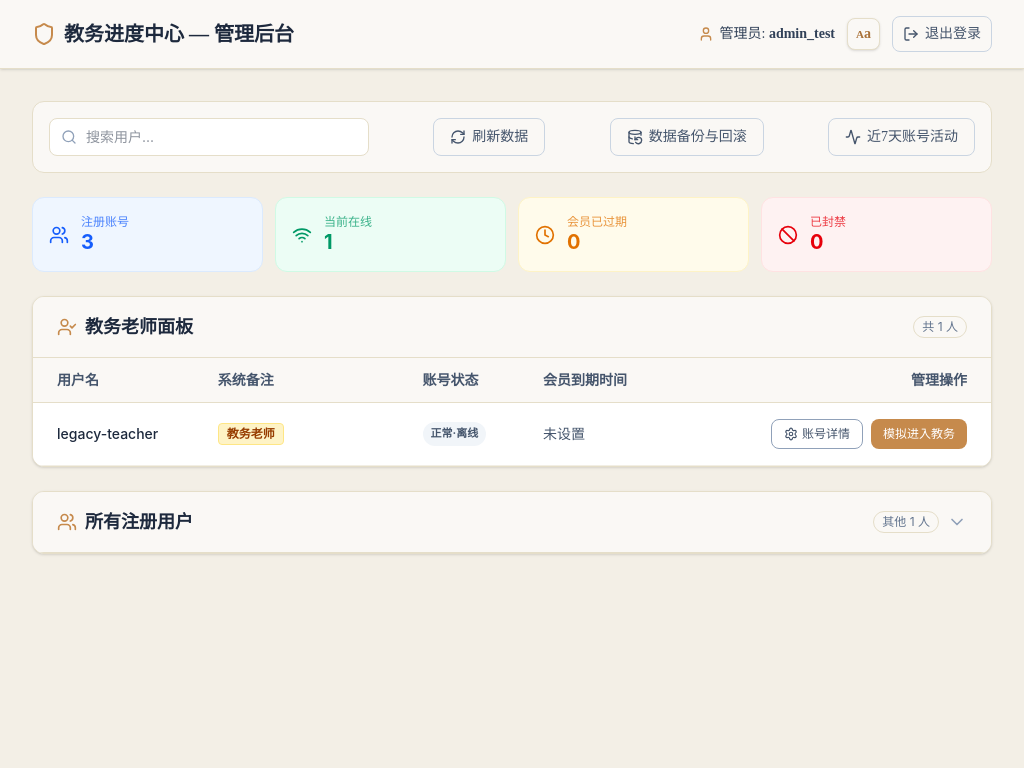
it: AdminDashboard Component › renders legacy English role data using only Chinese labels
Expected: the text "legacy-teacher" is shown, [33,402,194,466]
Expected: the text "教务老师" is shown, [218,423,284,445]
Click the heading "所有注册用户": (139,522) [85,508,193,536]
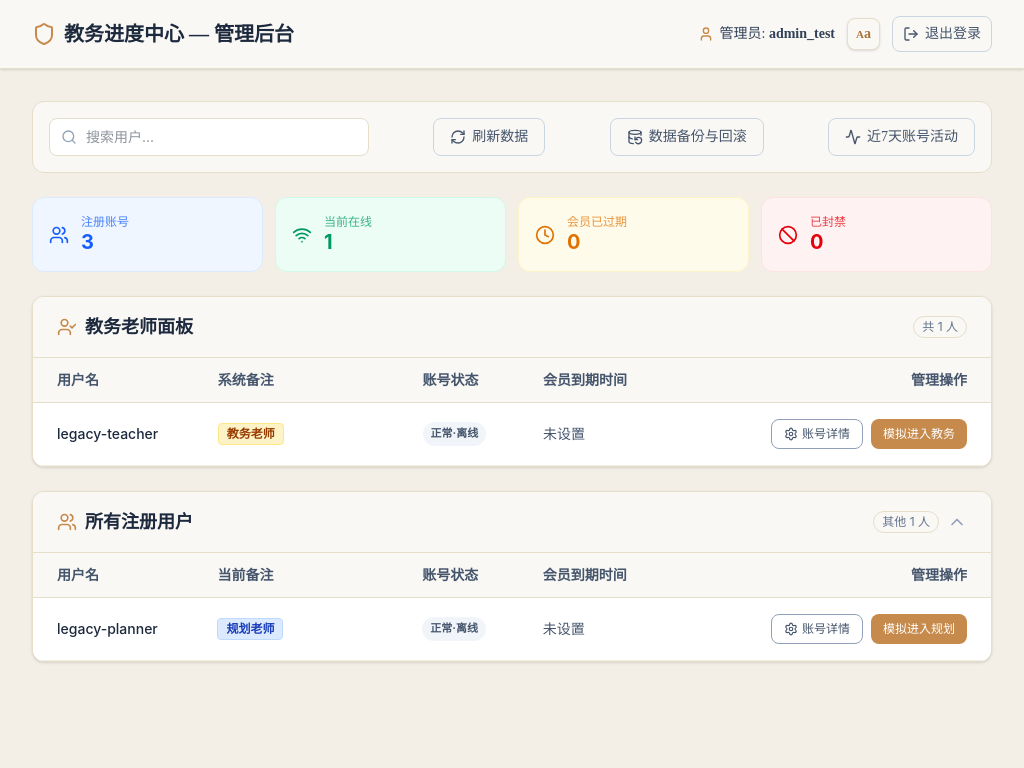
Now the text "规划老师" is shown, box [217,618,283,640]
